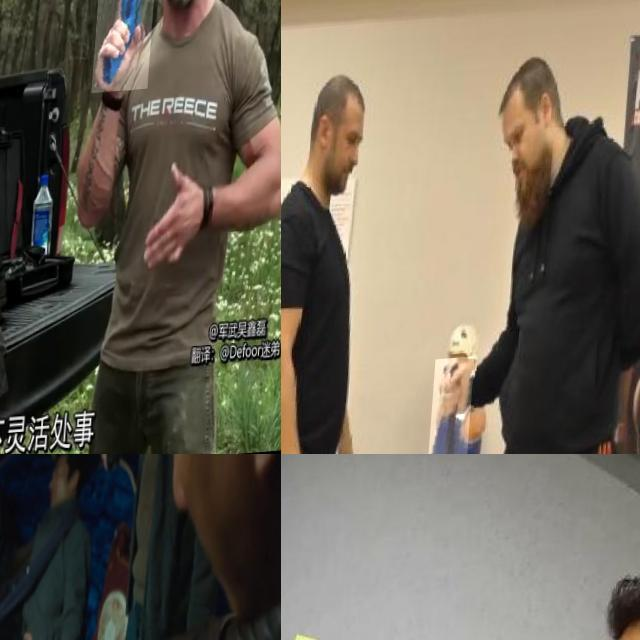-: (434, 363, 481, 454)
gun-knife-thesis - v11 Yolov5 augmented: (95, 0, 160, 100)
